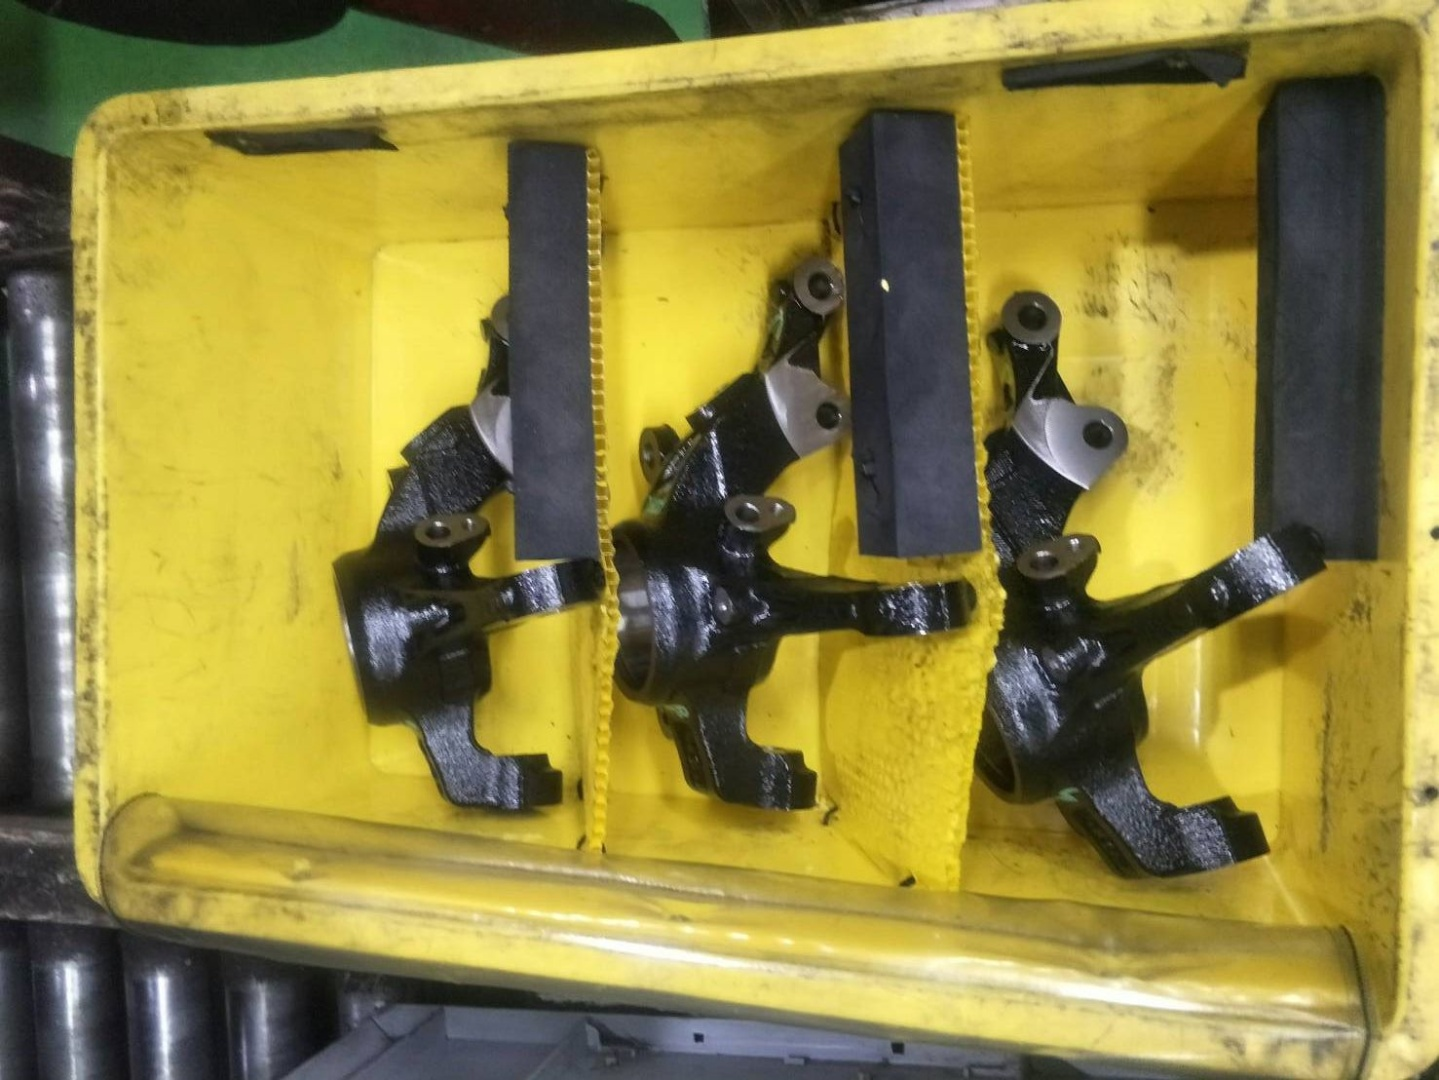abs-lh: (611, 250, 987, 818), (987, 284, 1335, 895), (321, 273, 612, 820)
